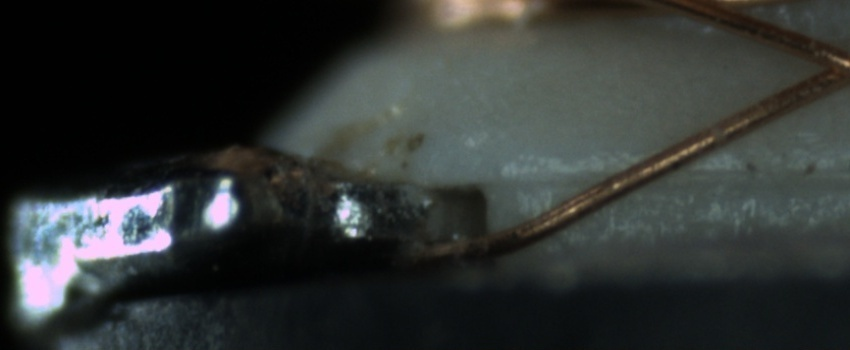CL: (798, 35, 849, 94)
DL: (509, 142, 849, 204)
